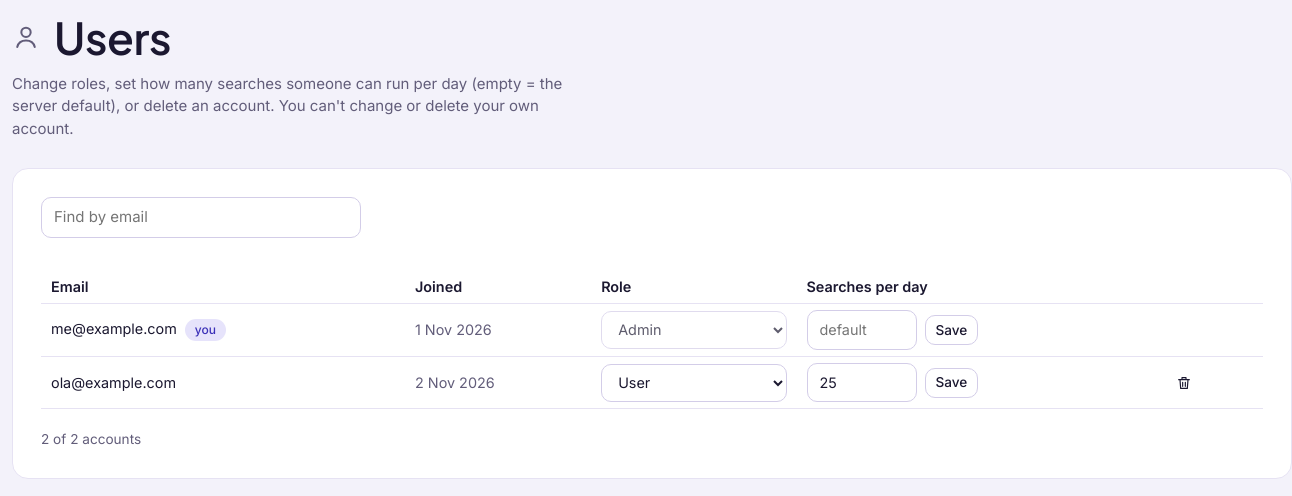
Test: AdminUsersPage › filters the list by email
Type "ola" into the search field named "Find a user by email" at (201, 217), box [41,197,361,238]
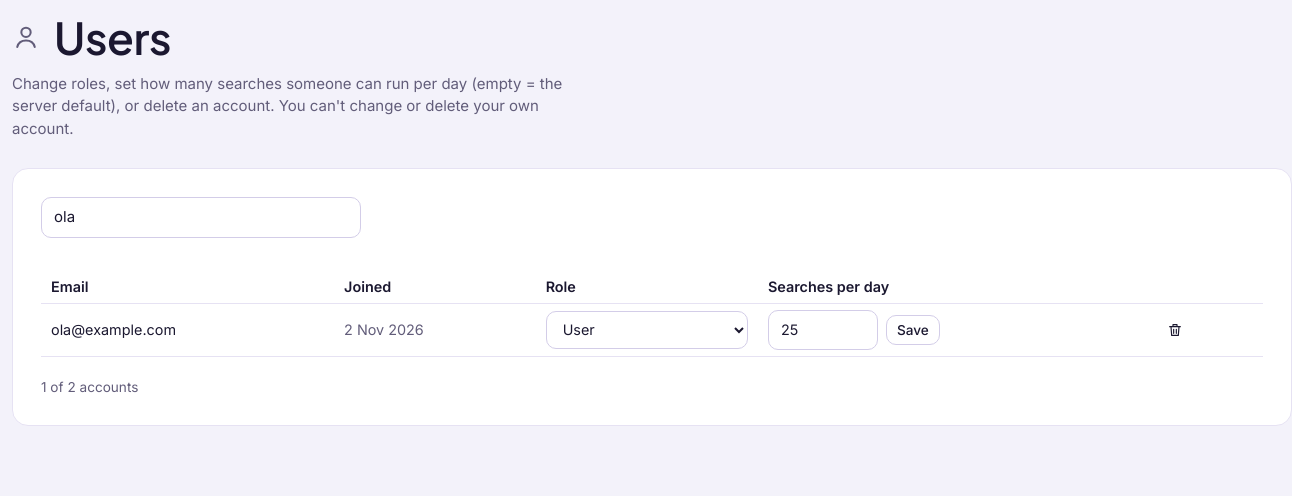
Now the text "me@example.com" is gone
Now the text "1 of 2 accounts" is shown, box [41,379,138,395]
